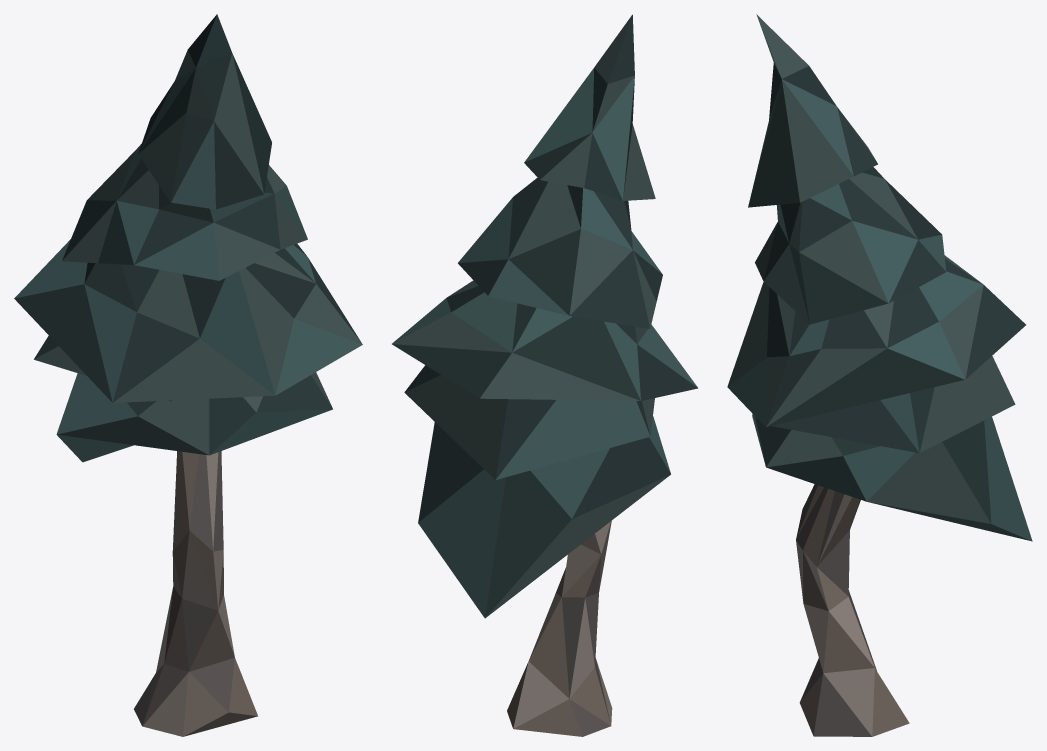
Rendered from Isla_Fantasma_Pino.FBX.
3 views of the same model, side by side, from view 1: azimuth 30°, elevation 25°; view 2: azimuth 150°, elevation 25°; view 3: azimuth 270°, elevation 25° (orthographic). The views are drawn at different scales.
Parts seen in each view (by area): view 1: Isla_Fantasma_Arbol_000; view 2: Isla_Fantasma_Arbol_000; view 3: Isla_Fantasma_Arbol_000.
Boxes of the visible parts, x1,y1,x2,y2 form: Isla_Fantasma_Arbol_000: (14, 14, 362, 736); Isla_Fantasma_Arbol_000: (392, 14, 697, 736); Isla_Fantasma_Arbol_000: (727, 14, 1032, 736).
Bounding box in the file's own units: 14.21 × 37.33 × 14.98.
Materials: 1 (1 with a texture image).
